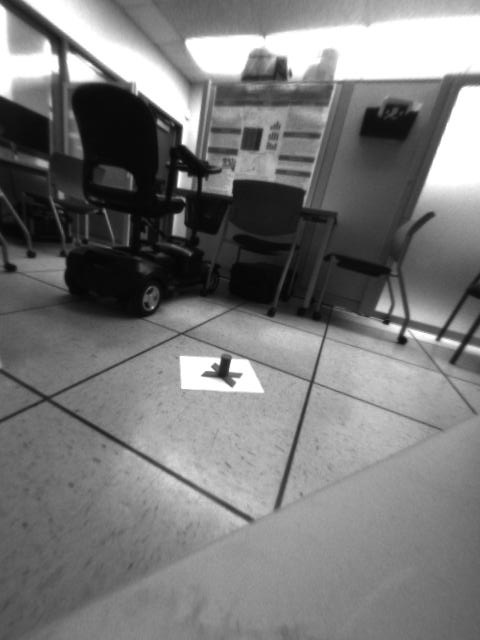X: (200, 354, 248, 388)
